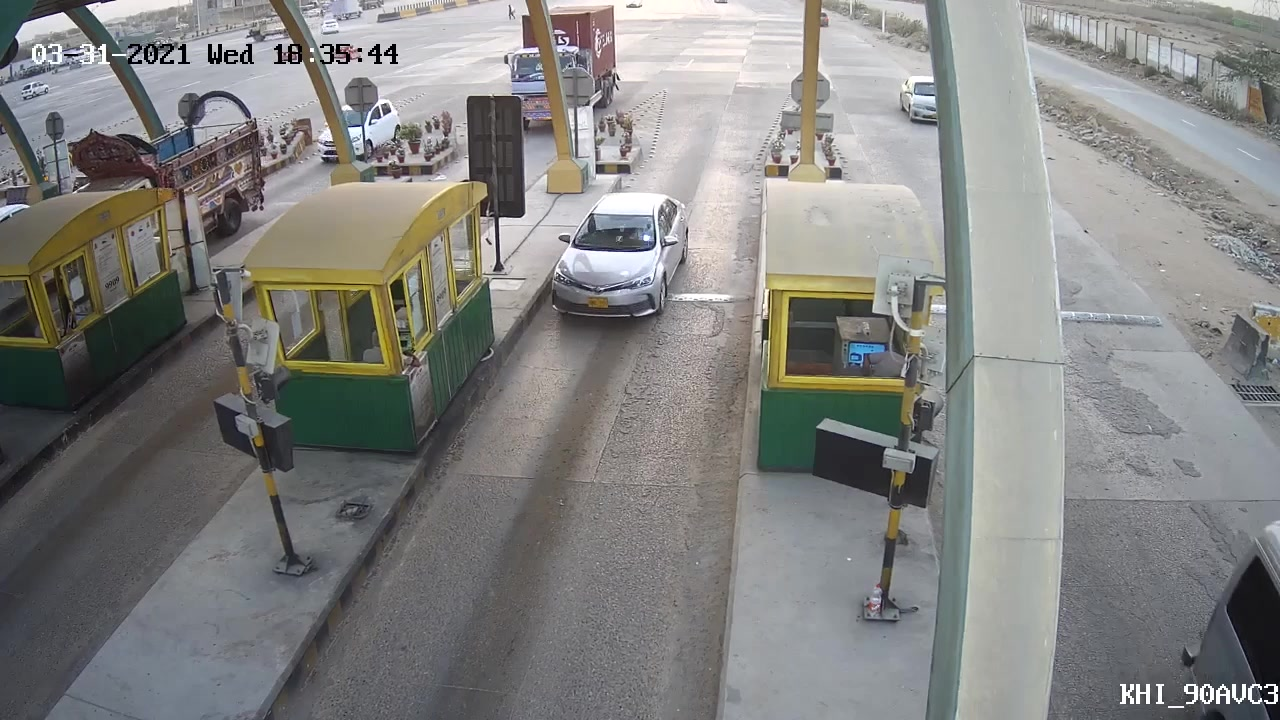F1: (542, 188, 694, 332)
